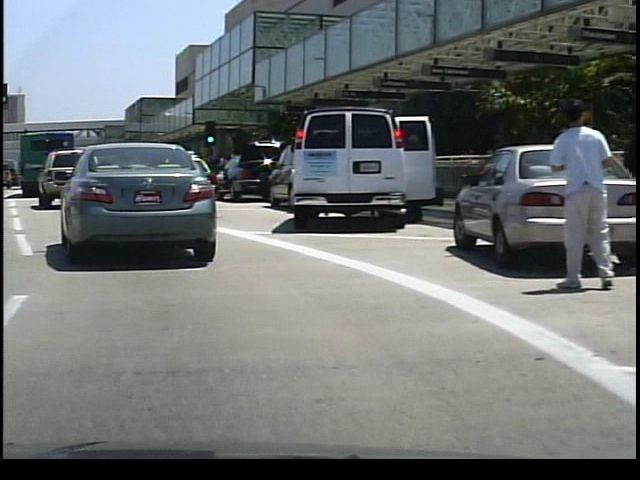person: (543, 94, 611, 293), (614, 116, 640, 235)
